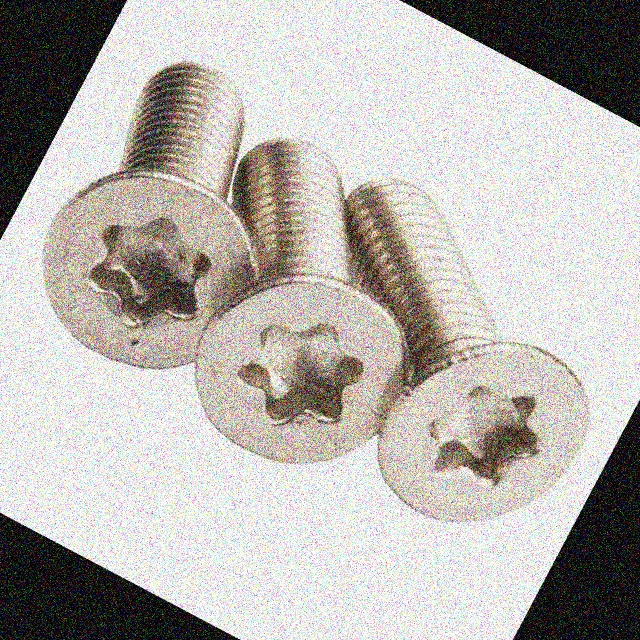torx: (67, 192, 235, 357), (219, 293, 382, 455), (410, 361, 563, 517)
